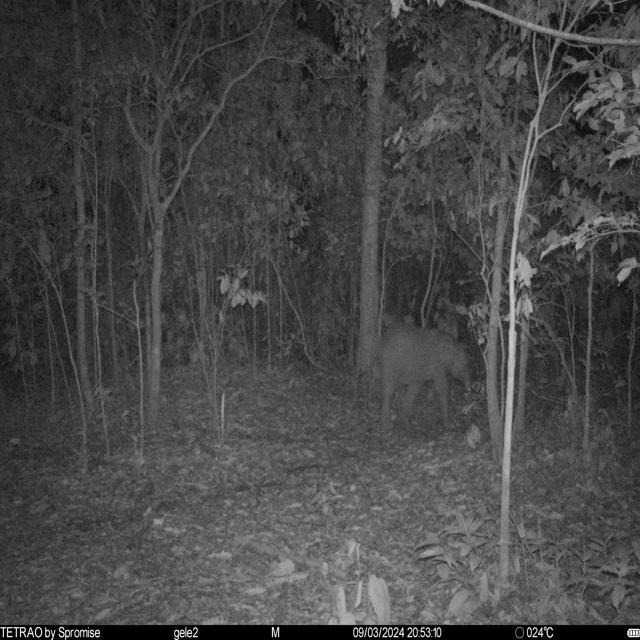calf: (373, 322, 475, 433)
